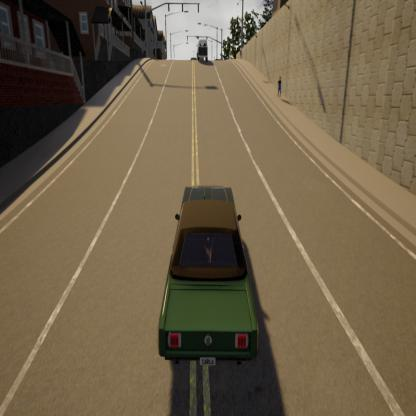Cars: (157, 144, 271, 398), (193, 22, 213, 82)
Pedestrian: (267, 60, 292, 112)
